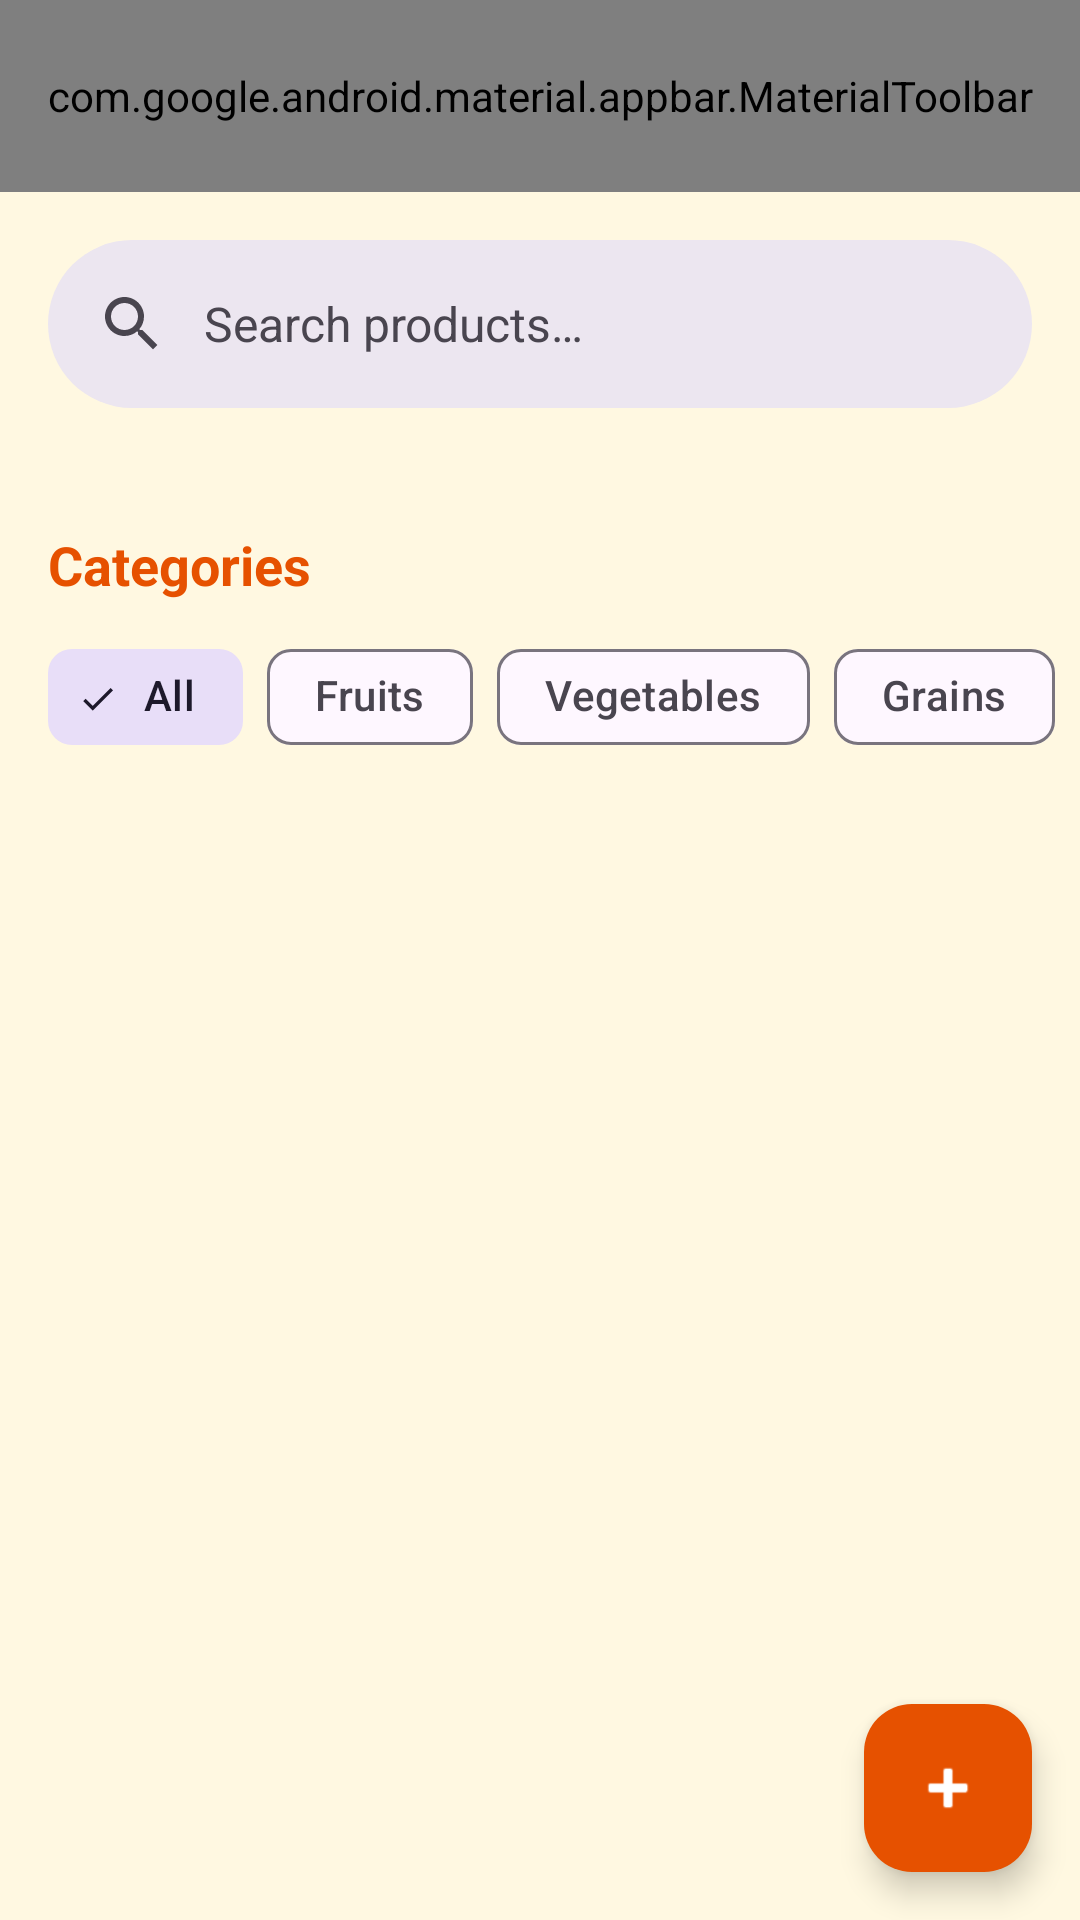

Named icons in this screenshot (1080×1920) and their centers, (x=x, y=y):
Add Product: (x=948, y=1788)
